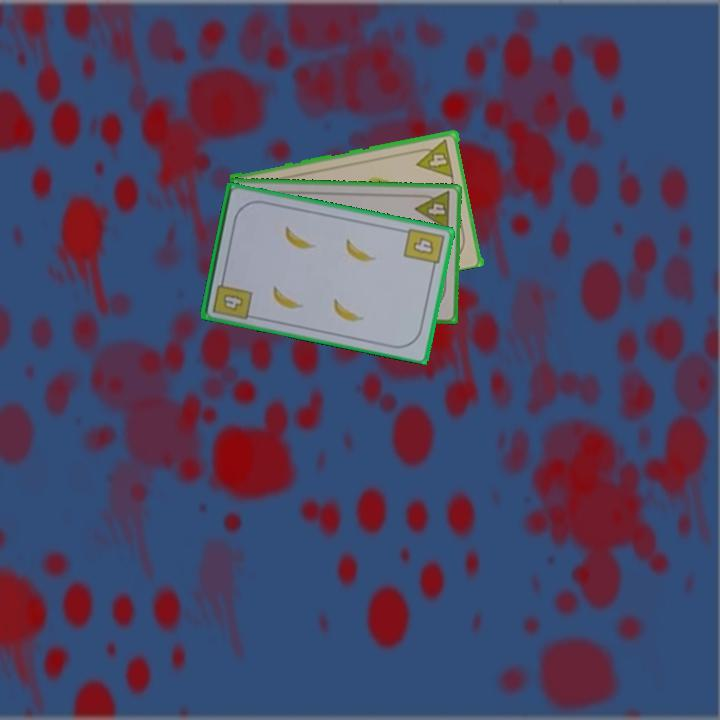4b: (400, 224, 447, 273), (209, 272, 255, 322)
4p: (412, 135, 456, 180), (412, 188, 454, 233)
